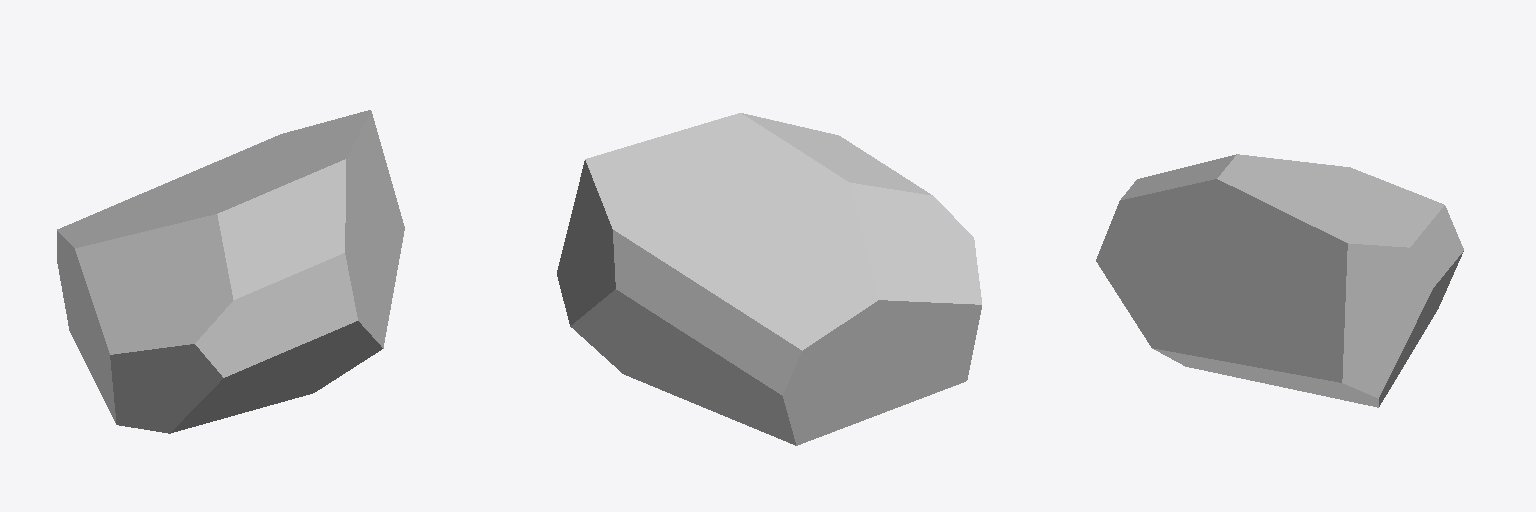
File: test-rock.obj
3 views of the same model, side by side, from view 1: azimuth 30°, elevation 25°; view 2: azimuth 150°, elevation 25°; view 3: azimuth 270°, elevation 25° (orthographic).
Parts seen in each view (by area): view 1: Sphere.003; view 2: Sphere.003; view 3: Sphere.003.
Boxes of the visible parts, box(x1,y1,x2,y2) form: Sphere.003: box(57, 110, 404, 433); Sphere.003: box(557, 113, 981, 445); Sphere.003: box(1096, 154, 1463, 407).
Bounding box in the file's own units: 3.49 × 1.96 × 3.09.